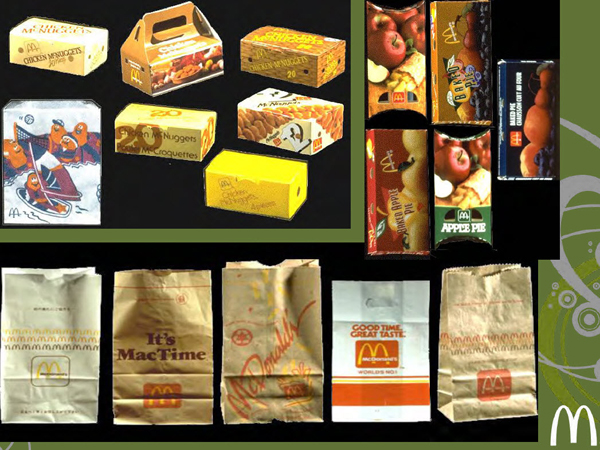mcdonalds: (549, 402, 597, 444), (355, 337, 393, 368), (31, 354, 63, 383), (140, 383, 180, 404), (474, 370, 505, 395)
